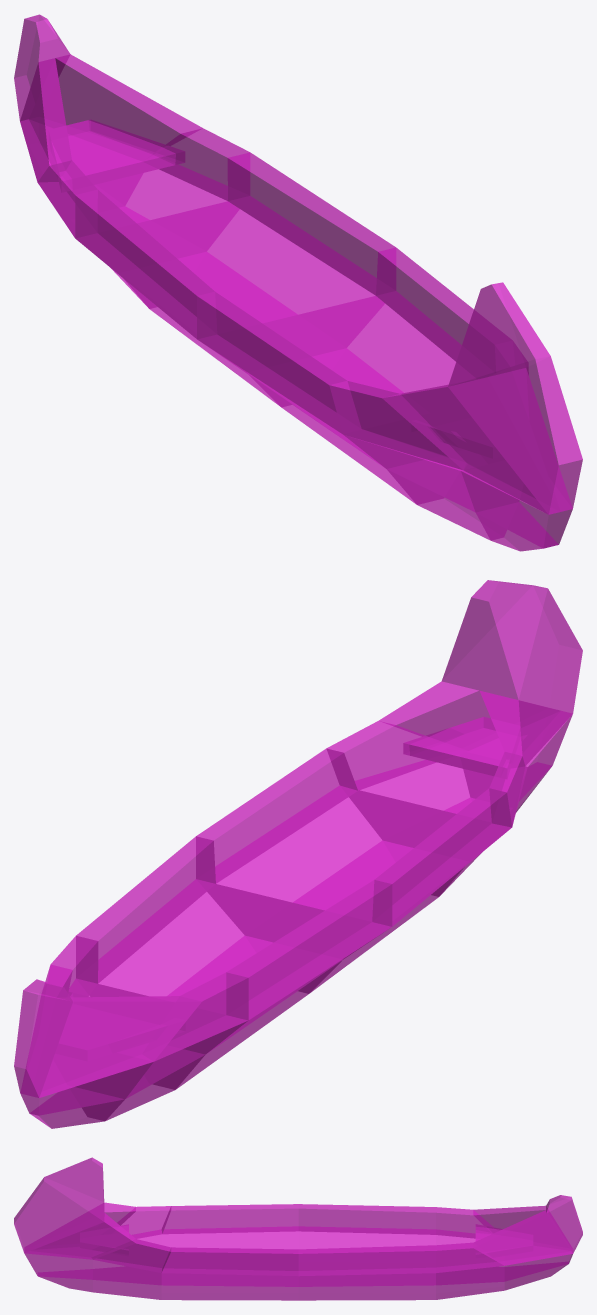
Rendered from SM_Veh_Boat_Small_01_Collision.fbx.
3 views of the same model, one above another, from view 1: azimuth 30°, elevation 25°; view 2: azimuth 150°, elevation 25°; view 3: azimuth 270°, elevation 25° (orthographic). The views are drawn at different scales.
Visible parts, largest first — view 1: SM_Veh_Boat_Small_01_Collision; view 2: SM_Veh_Boat_Small_01_Collision; view 3: SM_Veh_Boat_Small_01_Collision.
Part boxes in pixels (bbox=[...]): SM_Veh_Boat_Small_01_Collision: bbox=[14, 14, 582, 551]; SM_Veh_Boat_Small_01_Collision: bbox=[14, 580, 582, 1128]; SM_Veh_Boat_Small_01_Collision: bbox=[14, 1157, 582, 1300].
Bounding box in the file's own units: 176 × 226 × 848.
